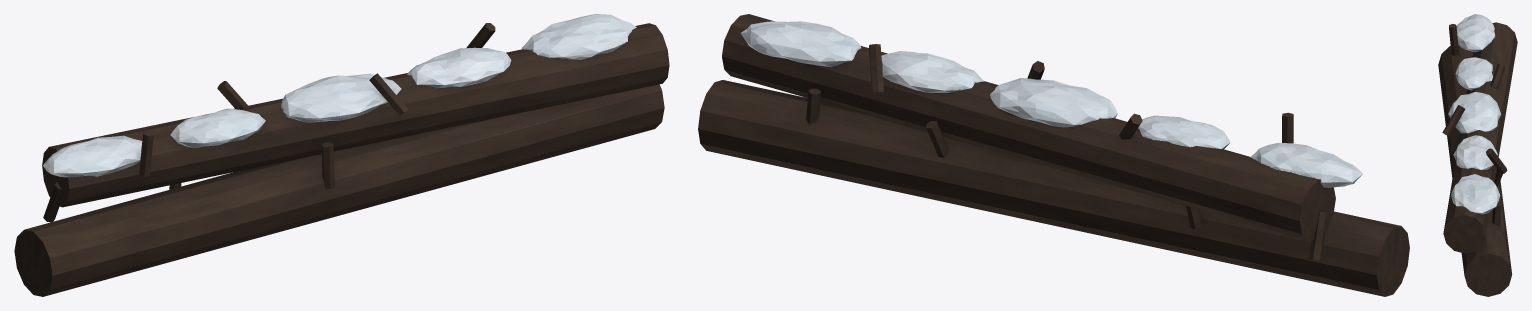
The model's file is arena_snow_logs.glb.
3 renders of one model, left to right at view 1: azimuth 30°, elevation 25°; view 2: azimuth 150°, elevation 25°; view 3: azimuth 270°, elevation 25°, orthographic. The views are drawn at different scales.
Parts seen in each view (by area): view 1: arena_snow_logs; view 2: arena_snow_logs; view 3: arena_snow_logs.
Part boxes in pixels (bbox=[...]): arena_snow_logs: bbox=[14, 14, 669, 296]; arena_snow_logs: bbox=[698, 14, 1409, 296]; arena_snow_logs: bbox=[1438, 14, 1517, 296].
Bounding box in the file's own units: 9.43 × 2.01 × 1.49.
Materials: 2 (2 with a texture image).
